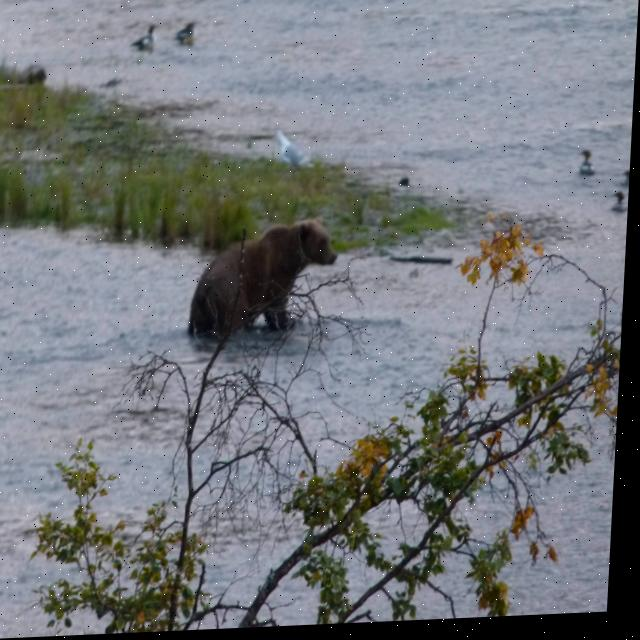bear face: (192, 223, 342, 339)
